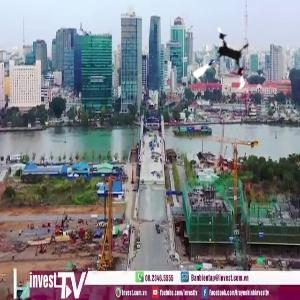drone: (188, 26, 260, 98)
